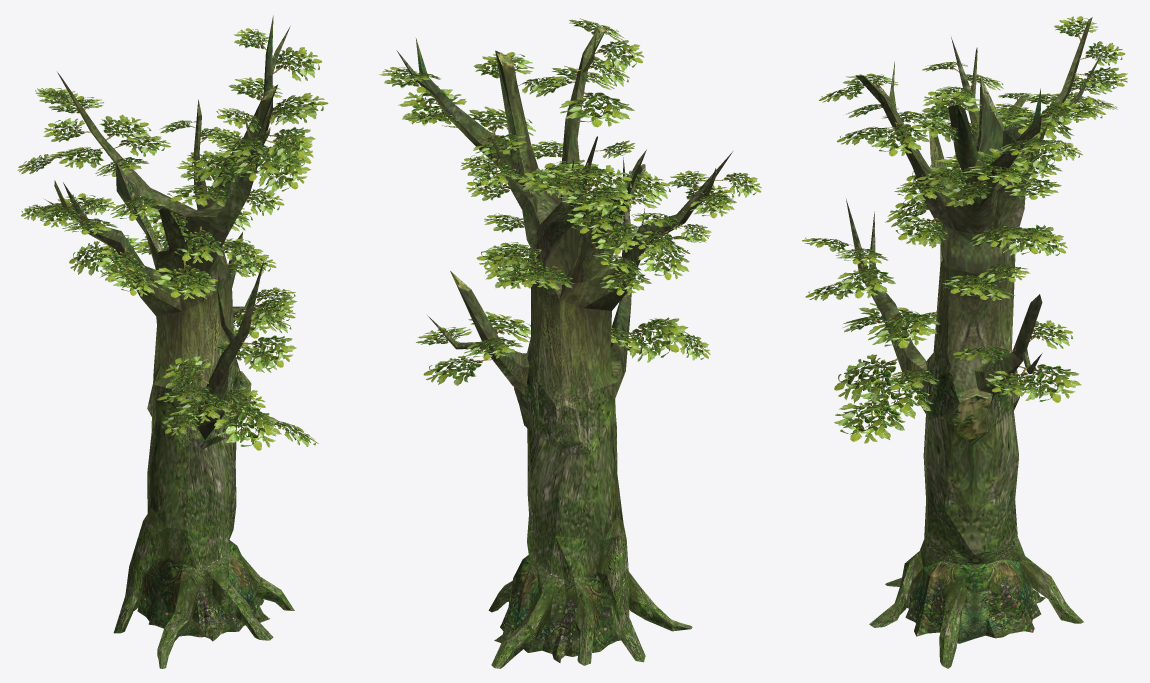
File: S_Tree_Green044.FBX
3 renders of one model, left to right at view 1: azimuth 30°, elevation 25°; view 2: azimuth 150°, elevation 25°; view 3: azimuth 270°, elevation 25°, orthographic. The views are drawn at different scales.
Parts seen in each view (by area): view 1: S_Tree_Green044; view 2: S_Tree_Green044; view 3: S_Tree_Green044.
Boxes of the visible parts, box(x1,y1,x2,y2) form: S_Tree_Green044: box(17, 15, 328, 668); S_Tree_Green044: box(379, 18, 761, 668); S_Tree_Green044: box(802, 16, 1127, 668).
Size of the model in its own units: 1305 by 1140 by 2177.
